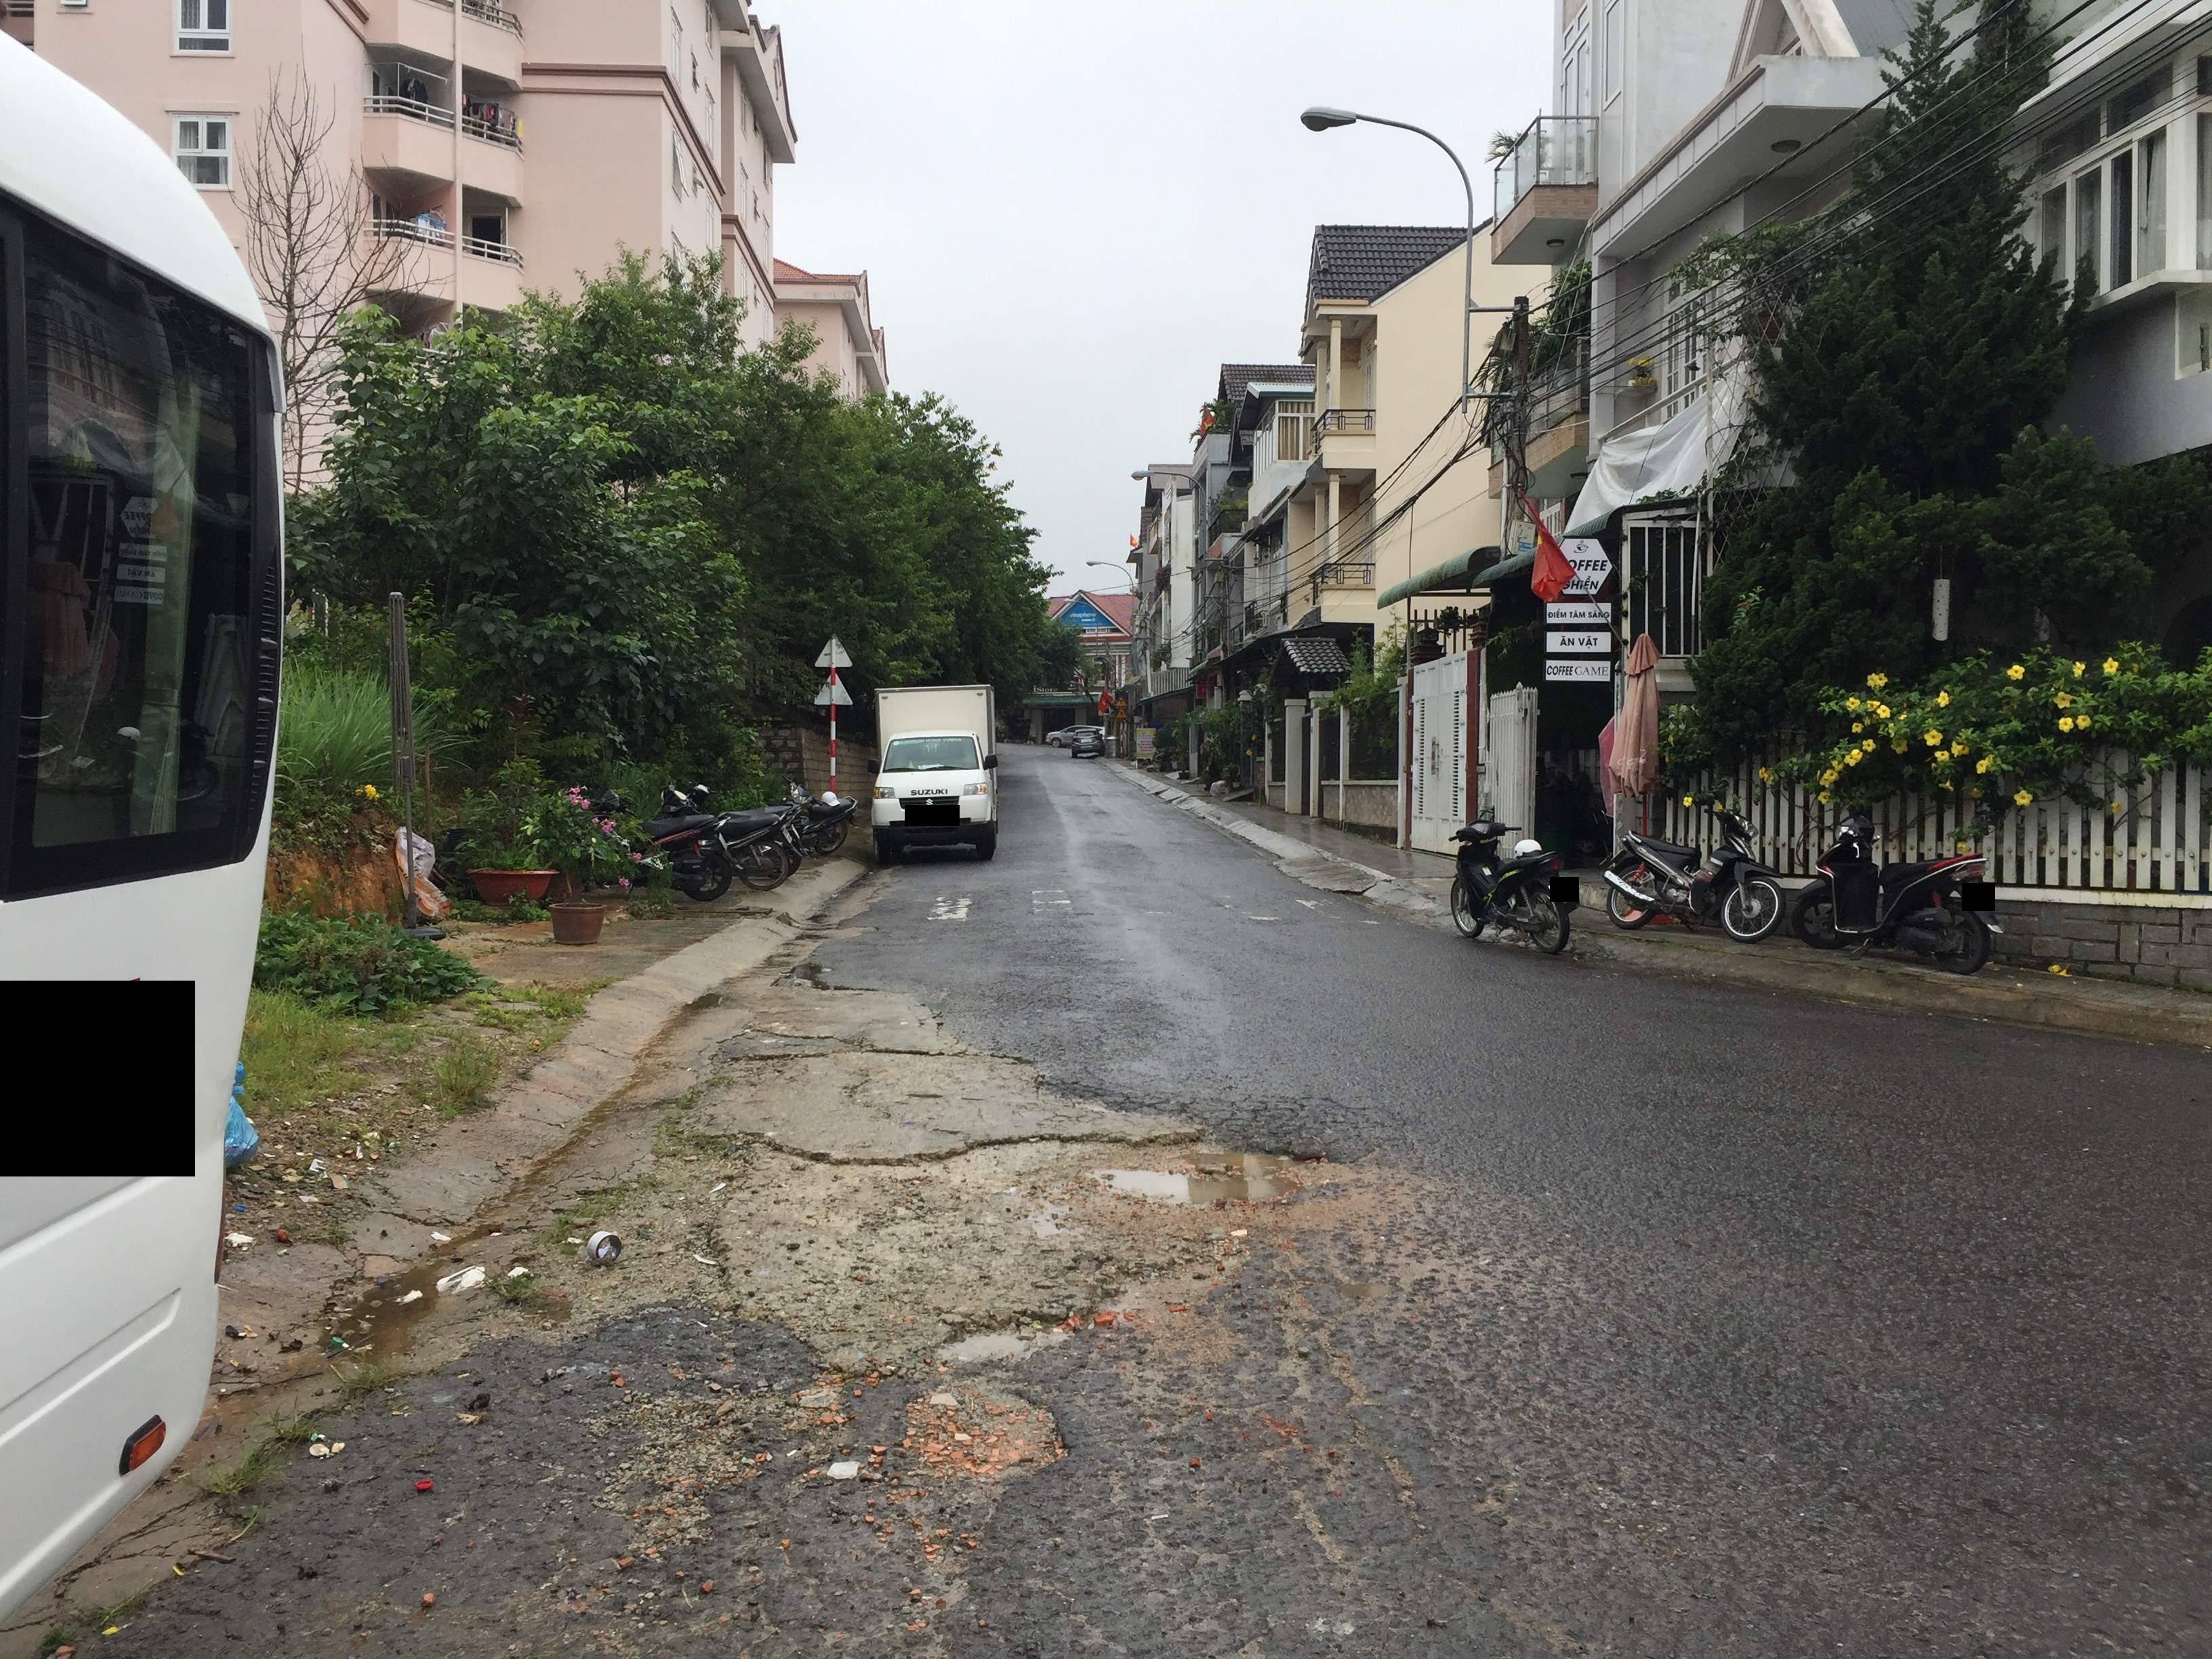hole: (1082, 1131, 1353, 1209), (878, 1382, 1075, 1488), (907, 1307, 1097, 1371), (1036, 1073, 1197, 1122)
